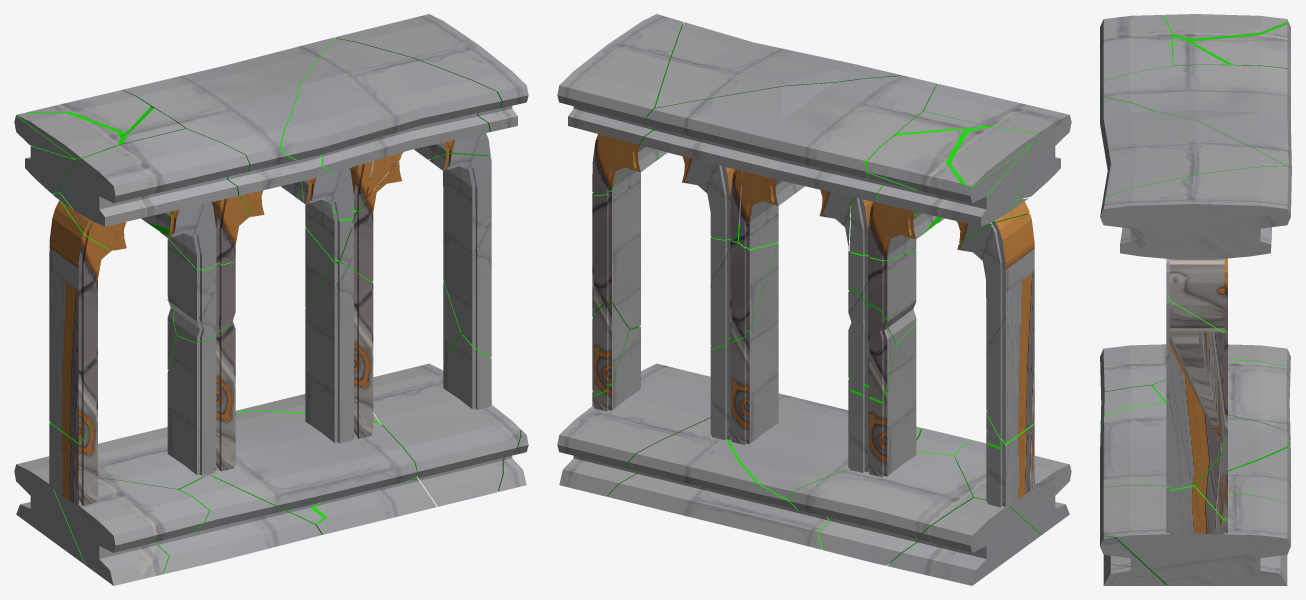
File: SM_Fence1m_Broken_01.fbx
3 renders of one model, left to right at view 1: azimuth 30°, elevation 25°; view 2: azimuth 150°, elevation 25°; view 3: azimuth 270°, elevation 25°, orthographic. The views are drawn at different scales.
Parts seen in each view (by area): view 1: SM_Fence1m_Broken_36, SM_Fence1m_Broken_31, SM_Fence1m_Broken_28, SM_Fence1m_Broken_22, SM_Fence1m_Broken_35, SM_Fence1m_Broken_05, SM_Fence1m_Broken_01, SM_Fence1m_Broken_29, SM_Fence1m_Broken_21, SM_Fence1m_Broken_16, SM_Fence1m_Broken_25, SM_Fence1m_Broken_30 (+19 smaller); view 2: SM_Fence1m_Broken_31, SM_Fence1m_Broken_26, SM_Fence1m_Broken_27, SM_Fence1m_Broken_01, SM_Fence1m_Broken_22, SM_Fence1m_Broken_30, SM_Fence1m_Broken_36, SM_Fence1m_Broken_05, SM_Fence1m_Broken_28, SM_Fence1m_Broken_24, SM_Fence1m_Broken_21, SM_Fence1m_Broken_16 (+17 smaller); view 3: SM_Fence1m_Broken_30, SM_Fence1m_Broken_22, SM_Fence1m_Broken_31, SM_Fence1m_Broken_16, SM_Fence1m_Broken_36, SM_Fence1m_Broken_28, SM_Fence1m_Broken_35, SM_Fence1m_Broken_27, SM_Fence1m_Broken_07, SM_Fence1m_Broken_34, SM_Fence1m_Broken_29, SM_Fence1m_Broken_26 (+7 smaller).
Boxes of the visible parts, box(x1,y1,x2,y2) form: SM_Fence1m_Broken_36: box(280, 38, 501, 172); SM_Fence1m_Broken_31: box(122, 37, 334, 195); SM_Fence1m_Broken_28: box(210, 411, 416, 523); SM_Fence1m_Broken_22: box(373, 363, 520, 506); SM_Fence1m_Broken_35: box(59, 128, 249, 226); SM_Fence1m_Broken_05: box(305, 261, 373, 443); SM_Fence1m_Broken_01: box(49, 200, 112, 442); SM_Fence1m_Broken_29: box(54, 478, 209, 585); SM_Fence1m_Broken_21: box(167, 322, 235, 478); SM_Fence1m_Broken_16: box(429, 153, 491, 357); SM_Fence1m_Broken_25: box(157, 475, 321, 574); SM_Fence1m_Broken_30: box(335, 14, 528, 131); SM_Fence1m_Broken_31: box(640, 76, 937, 202); SM_Fence1m_Broken_26: box(607, 418, 829, 549); SM_Fence1m_Broken_27: box(790, 452, 972, 565); SM_Fence1m_Broken_01: box(957, 214, 1034, 443); SM_Fence1m_Broken_22: box(557, 365, 710, 496); SM_Fence1m_Broken_30: box(557, 14, 683, 144); SM_Fence1m_Broken_36: box(653, 22, 902, 130); SM_Fence1m_Broken_05: box(710, 242, 778, 444); SM_Fence1m_Broken_28: box(729, 393, 920, 500); SM_Fence1m_Broken_24: box(887, 498, 1040, 585); SM_Fence1m_Broken_21: box(848, 324, 916, 477); SM_Fence1m_Broken_16: box(592, 150, 667, 330); SM_Fence1m_Broken_30: box(1100, 166, 1291, 259); SM_Fence1m_Broken_22: box(1100, 485, 1290, 585); SM_Fence1m_Broken_31: box(1100, 65, 1291, 176); SM_Fence1m_Broken_16: box(1166, 295, 1227, 489); SM_Fence1m_Broken_36: box(1100, 97, 1284, 231); SM_Fence1m_Broken_28: box(1100, 402, 1290, 494); SM_Fence1m_Broken_35: box(1100, 15, 1173, 89); SM_Fence1m_Broken_27: box(1153, 359, 1290, 439); SM_Fence1m_Broken_07: box(1166, 258, 1227, 332); SM_Fence1m_Broken_34: box(1189, 20, 1290, 75); SM_Fence1m_Broken_29: box(1100, 344, 1166, 396); SM_Fence1m_Broken_26: box(1228, 441, 1290, 563).
Size of the model in its own units: 1 by 0.9466 by 0.4268.
